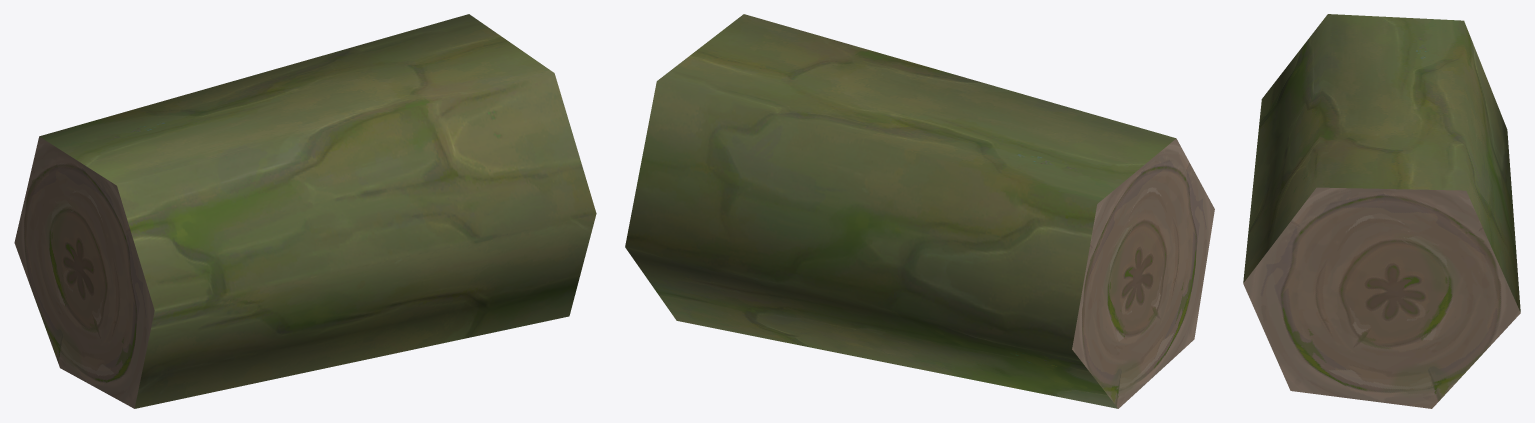
The model's file is m_env_collect_tree_cedar_fir_03_lod2.FBX.
3 renders of one model, left to right at view 1: azimuth 30°, elevation 25°; view 2: azimuth 150°, elevation 25°; view 3: azimuth 270°, elevation 25°, orthographic. The views are drawn at different scales.
Parts seen in each view (by area): view 1: m_env_collect_tree_cedar_fir_03_lod2; view 2: m_env_collect_tree_cedar_fir_03_lod2; view 3: m_env_collect_tree_cedar_fir_03_lod2.
Part boxes in pixels (x1,y1,x2,y2): m_env_collect_tree_cedar_fir_03_lod2: (14, 14, 596, 408); m_env_collect_tree_cedar_fir_03_lod2: (625, 14, 1214, 408); m_env_collect_tree_cedar_fir_03_lod2: (1243, 14, 1520, 408).
Bounding box in the file's own units: 58.25 × 32.66 × 37.11.
